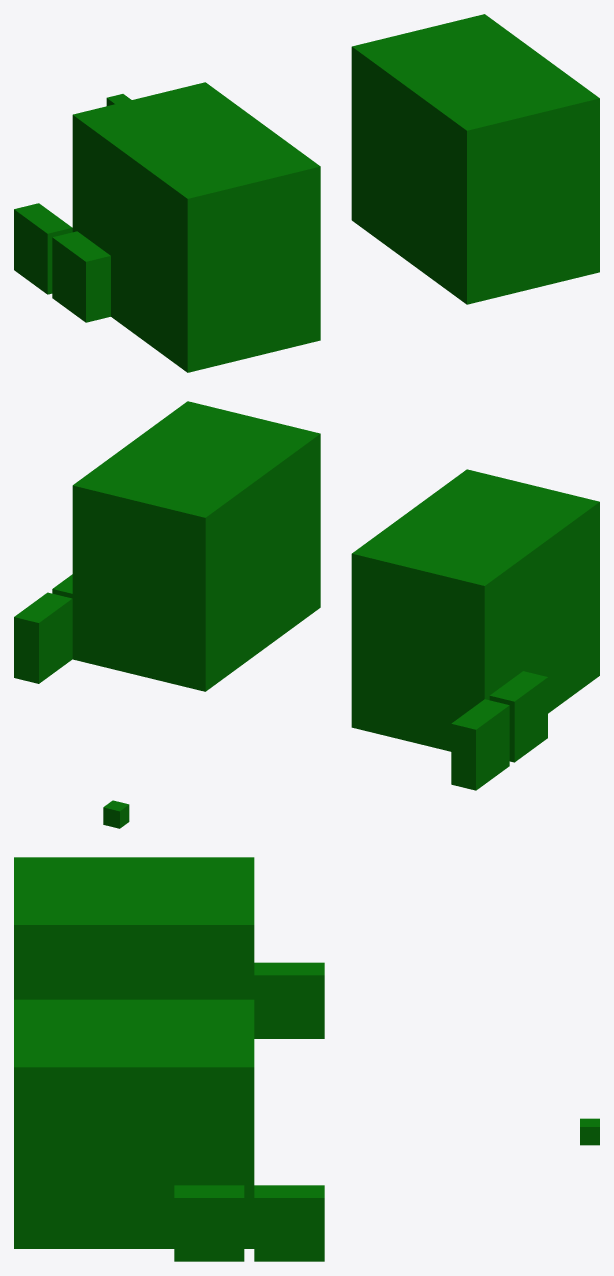
File: Image-1710907554396-2281277071456_27-XJ50.fbx
3 renders of one model, top to bottom at view 1: azimuth 30°, elevation 25°; view 2: azimuth 150°, elevation 25°; view 3: azimuth 270°, elevation 25°, orthographic. The views are drawn at different scales.
Visible parts, largest first — view 1: BOX 1 of SUBEQUIPMENT /27-XJ50/PRIM-STREAM1, BOX 1 of SUBEQUIPMENT /27-XJ50/PRIM-STREAM2, BOX 3 of SUBEQUIPMENT /27-XJ50/PRIM-STREAM2, BOX 2 of SUBEQUIPMENT /27-XJ50/PRIM-STREAM2; view 2: BOX 1 of SUBEQUIPMENT /27-XJ50/PRIM-STREAM1, BOX 1 of SUBEQUIPMENT /27-XJ50/PRIM-STREAM2, BOX 2 of SUBEQUIPMENT /27-XJ50/PRIM-STREAM2, BOX 3 of SUBEQUIPMENT /27-XJ50/PRIM-STREAM1, BOX 3 of SUBEQUIPMENT /27-XJ50/PRIM-STREAM2, BOX 1 of SUBEQUIPMENT /27-2301PV; view 3: BOX 1 of SUBEQUIPMENT /27-XJ50/PRIM-STREAM1, BOX 1 of SUBEQUIPMENT /27-XJ50/PRIM-STREAM2, BOX 2 of SUBEQUIPMENT /27-XJ50/PRIM-STREAM1, BOX 3 of SUBEQUIPMENT /27-XJ50/PRIM-STREAM1, BOX 2 of SUBEQUIPMENT /27-XJ50/PRIM-STREAM2, BOX 1 of SUBEQUIPMENT /27-2301PV.
Part boxes in pixels (box(x1,y1,x2,y2)): BOX 1 of SUBEQUIPMENT /27-XJ50/PRIM-STREAM1: box(351, 14, 599, 304); BOX 1 of SUBEQUIPMENT /27-XJ50/PRIM-STREAM2: box(72, 82, 320, 372); BOX 3 of SUBEQUIPMENT /27-XJ50/PRIM-STREAM2: box(52, 231, 110, 322); BOX 2 of SUBEQUIPMENT /27-XJ50/PRIM-STREAM2: box(14, 203, 72, 294); BOX 1 of SUBEQUIPMENT /27-XJ50/PRIM-STREAM1: box(72, 401, 320, 691); BOX 1 of SUBEQUIPMENT /27-XJ50/PRIM-STREAM2: box(351, 469, 599, 751); BOX 2 of SUBEQUIPMENT /27-XJ50/PRIM-STREAM2: box(451, 699, 509, 790); BOX 3 of SUBEQUIPMENT /27-XJ50/PRIM-STREAM1: box(14, 592, 72, 683); BOX 3 of SUBEQUIPMENT /27-XJ50/PRIM-STREAM2: box(489, 671, 547, 762); BOX 1 of SUBEQUIPMENT /27-2301PV: box(103, 800, 129, 828); BOX 1 of SUBEQUIPMENT /27-XJ50/PRIM-STREAM1: box(14, 999, 254, 1248); BOX 1 of SUBEQUIPMENT /27-XJ50/PRIM-STREAM2: box(14, 857, 254, 999); BOX 2 of SUBEQUIPMENT /27-XJ50/PRIM-STREAM1: box(174, 1185, 244, 1261); BOX 3 of SUBEQUIPMENT /27-XJ50/PRIM-STREAM1: box(254, 1185, 324, 1261); BOX 2 of SUBEQUIPMENT /27-XJ50/PRIM-STREAM2: box(254, 962, 324, 1038); BOX 1 of SUBEQUIPMENT /27-2301PV: box(580, 1118, 599, 1145).
Bounding box in the file's own units: 2.78 × 2.92 × 1.
